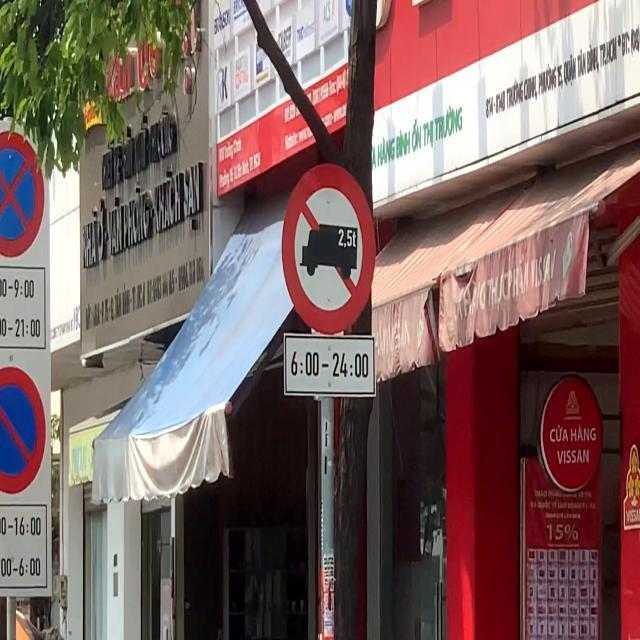130-cam-dung-va-do-xe: (0, 130, 46, 258)
131a-cam-do-xe: (0, 366, 48, 494)
